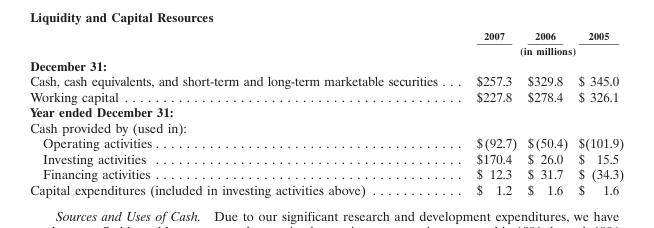table: (29, 29, 623, 197)
table column: (29, 29, 456, 197), (456, 29, 521, 197), (521, 29, 572, 197), (572, 29, 623, 197)
table column header: (29, 29, 623, 57)
table projected row header: (29, 119, 623, 135), (29, 57, 623, 72), (29, 104, 623, 119)
table row: (29, 72, 623, 88), (29, 88, 623, 104), (29, 119, 623, 135), (29, 150, 623, 166), (29, 181, 623, 197), (29, 42, 623, 57), (29, 57, 623, 72), (29, 104, 623, 119), (29, 135, 623, 150), (29, 166, 623, 181), (29, 29, 623, 42)
table spanning cell: (456, 42, 623, 57)
